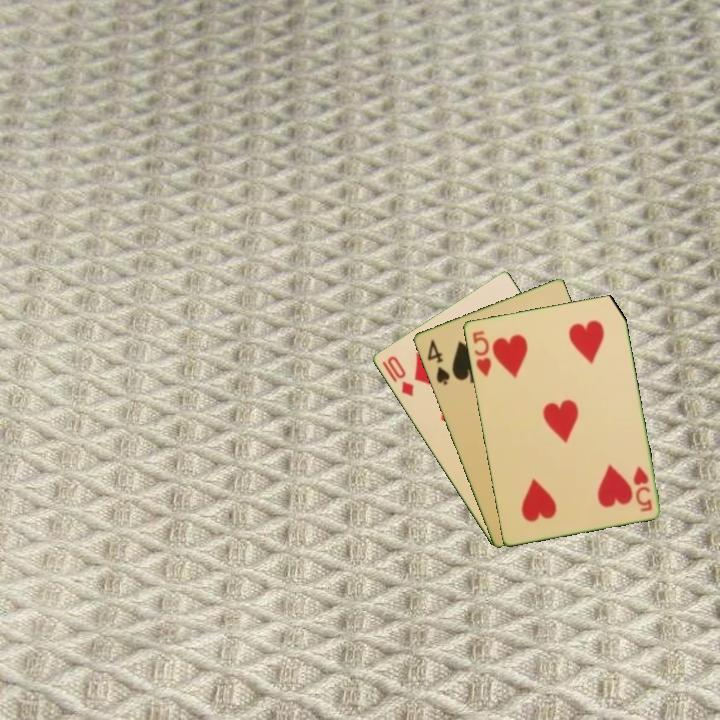10d: (383, 352, 416, 399)
4s: (423, 336, 452, 388)
5h: (629, 463, 655, 514), (469, 327, 494, 380)
